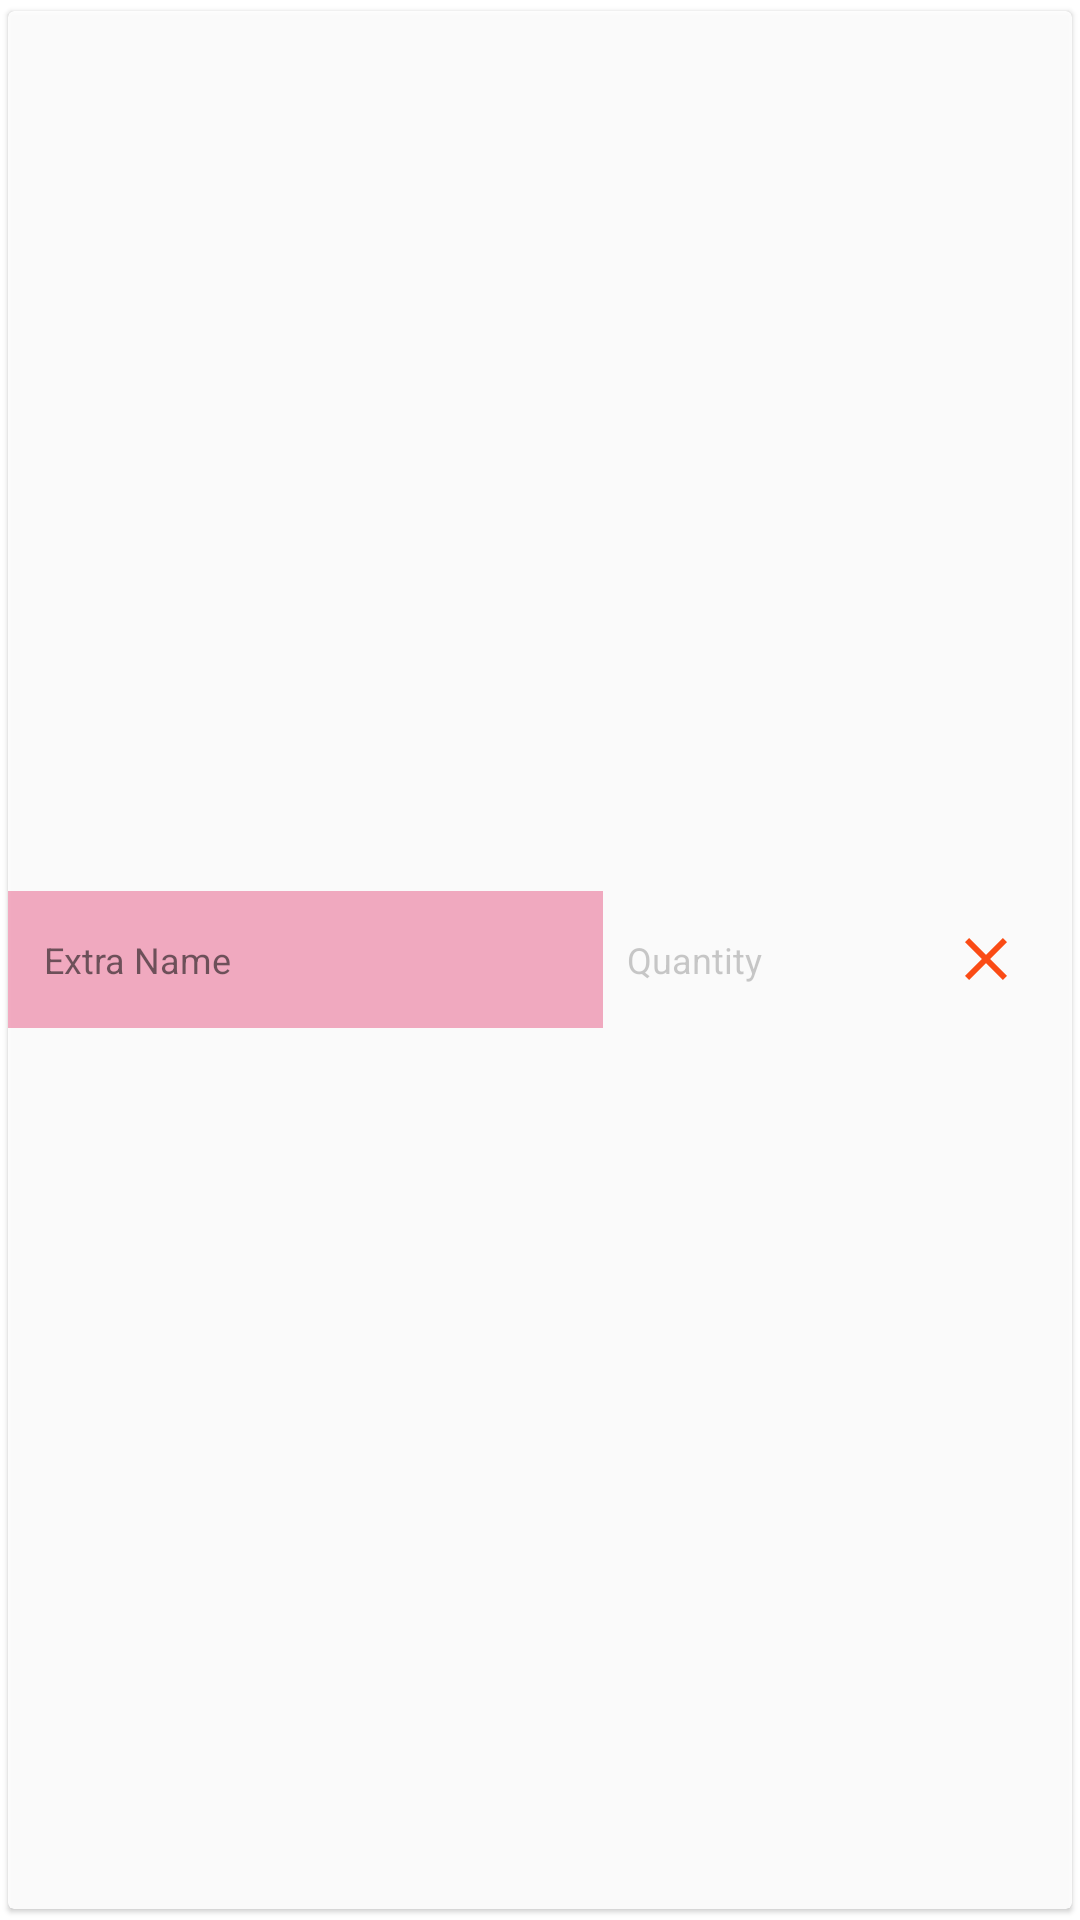

Icon click points for this 1080*1920 phone screenshot, format (x,y):
Cancel: (986,959)
